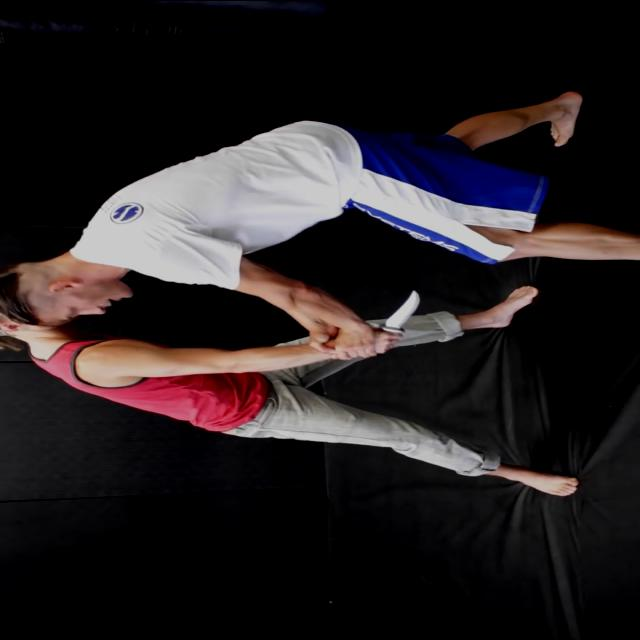knife: (372, 287, 428, 357)
